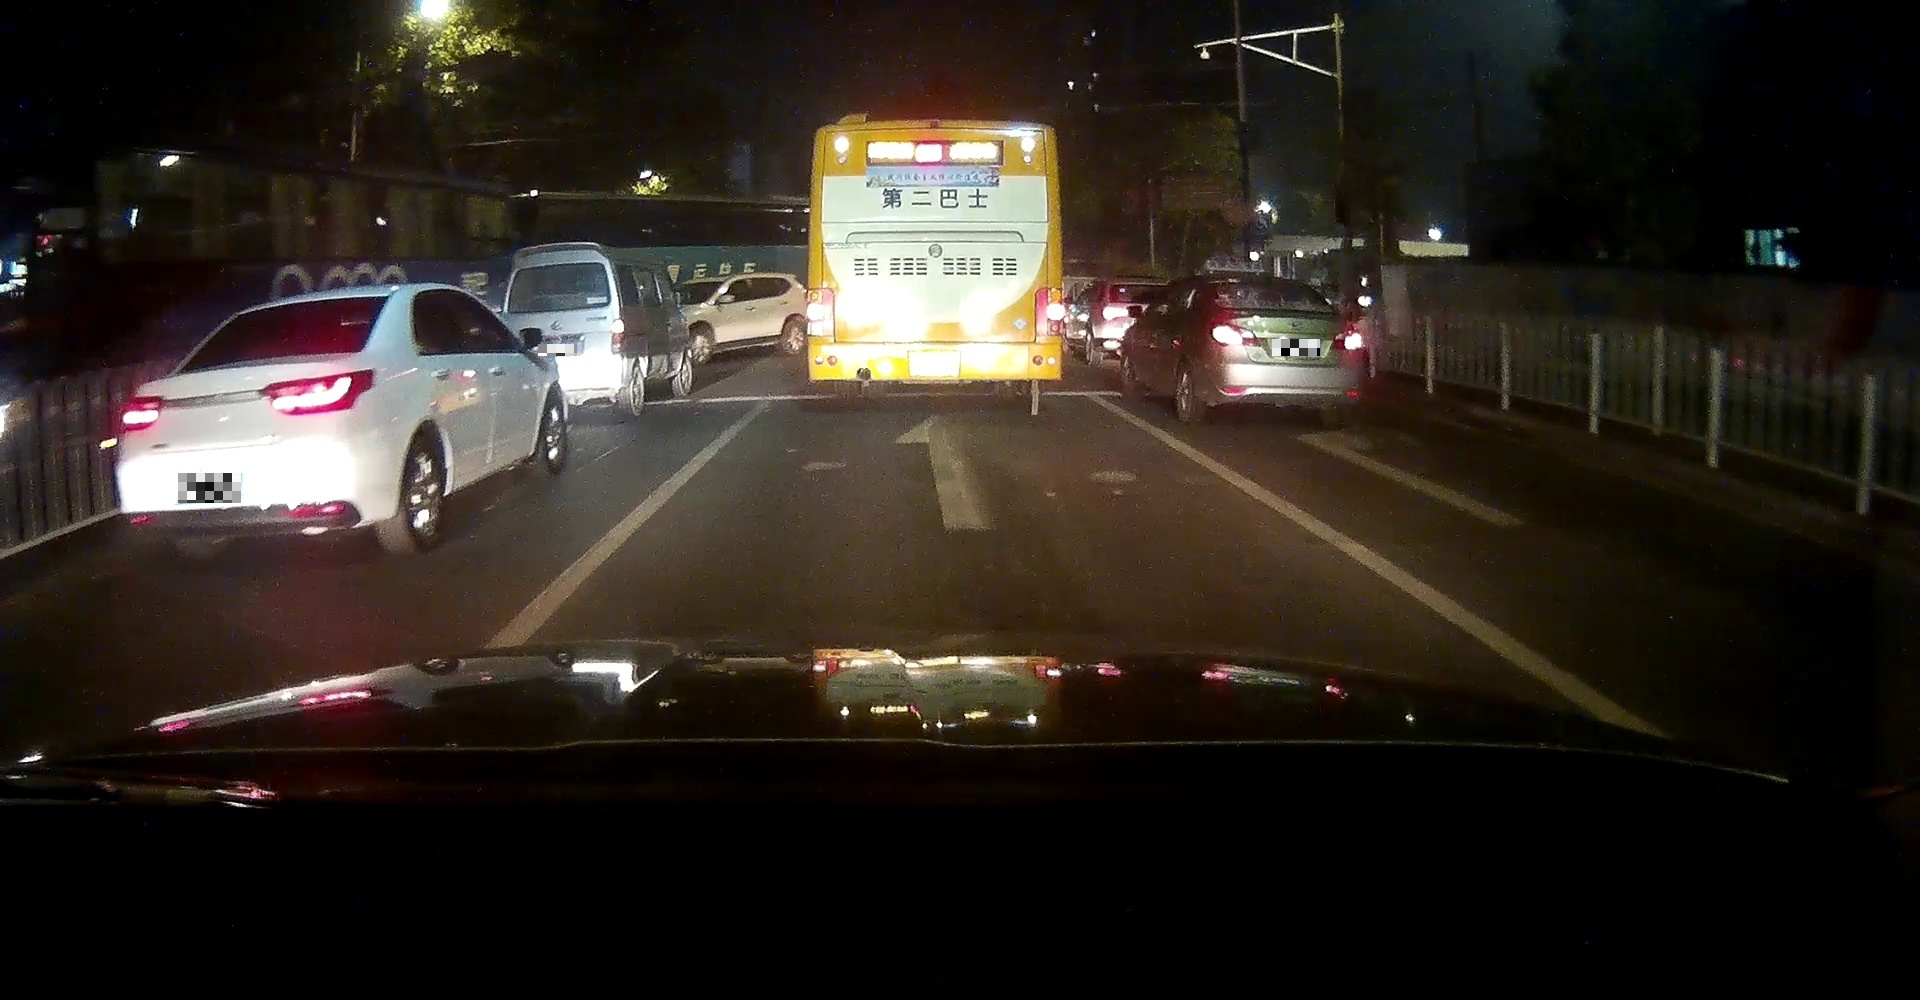L_light: (119, 395, 165, 437), (808, 288, 836, 338), (1208, 322, 1261, 348)
R_light: (255, 365, 376, 415), (1035, 287, 1065, 338), (1330, 327, 1364, 352)
T_light: (288, 294, 320, 305), (923, 119, 949, 131), (1261, 277, 1279, 284)
night-no: (113, 286, 395, 563), (806, 112, 1065, 404), (1197, 274, 1365, 423)
plate_1: (178, 473, 241, 503)
plate_2: (538, 344, 577, 357)
plate_3: (1272, 339, 1321, 357)
